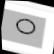no answer: (10, 13, 41, 39)
